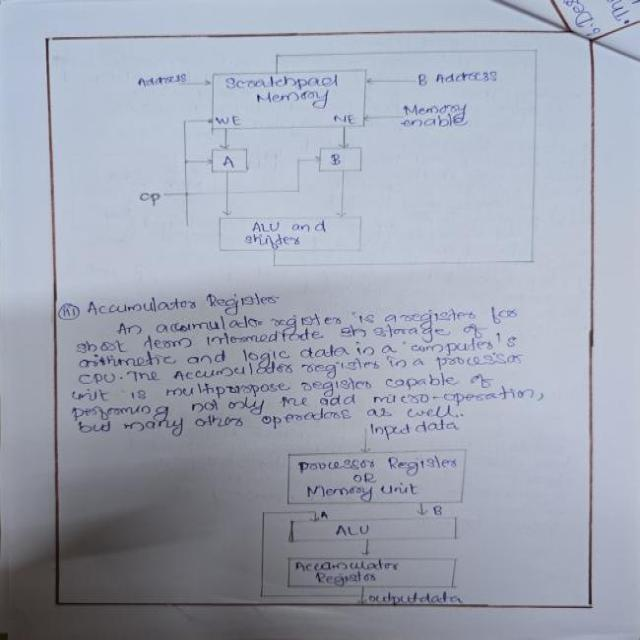Figure Detection - v3 Dataset Version2: (102, 41, 548, 278), (233, 412, 526, 607)
